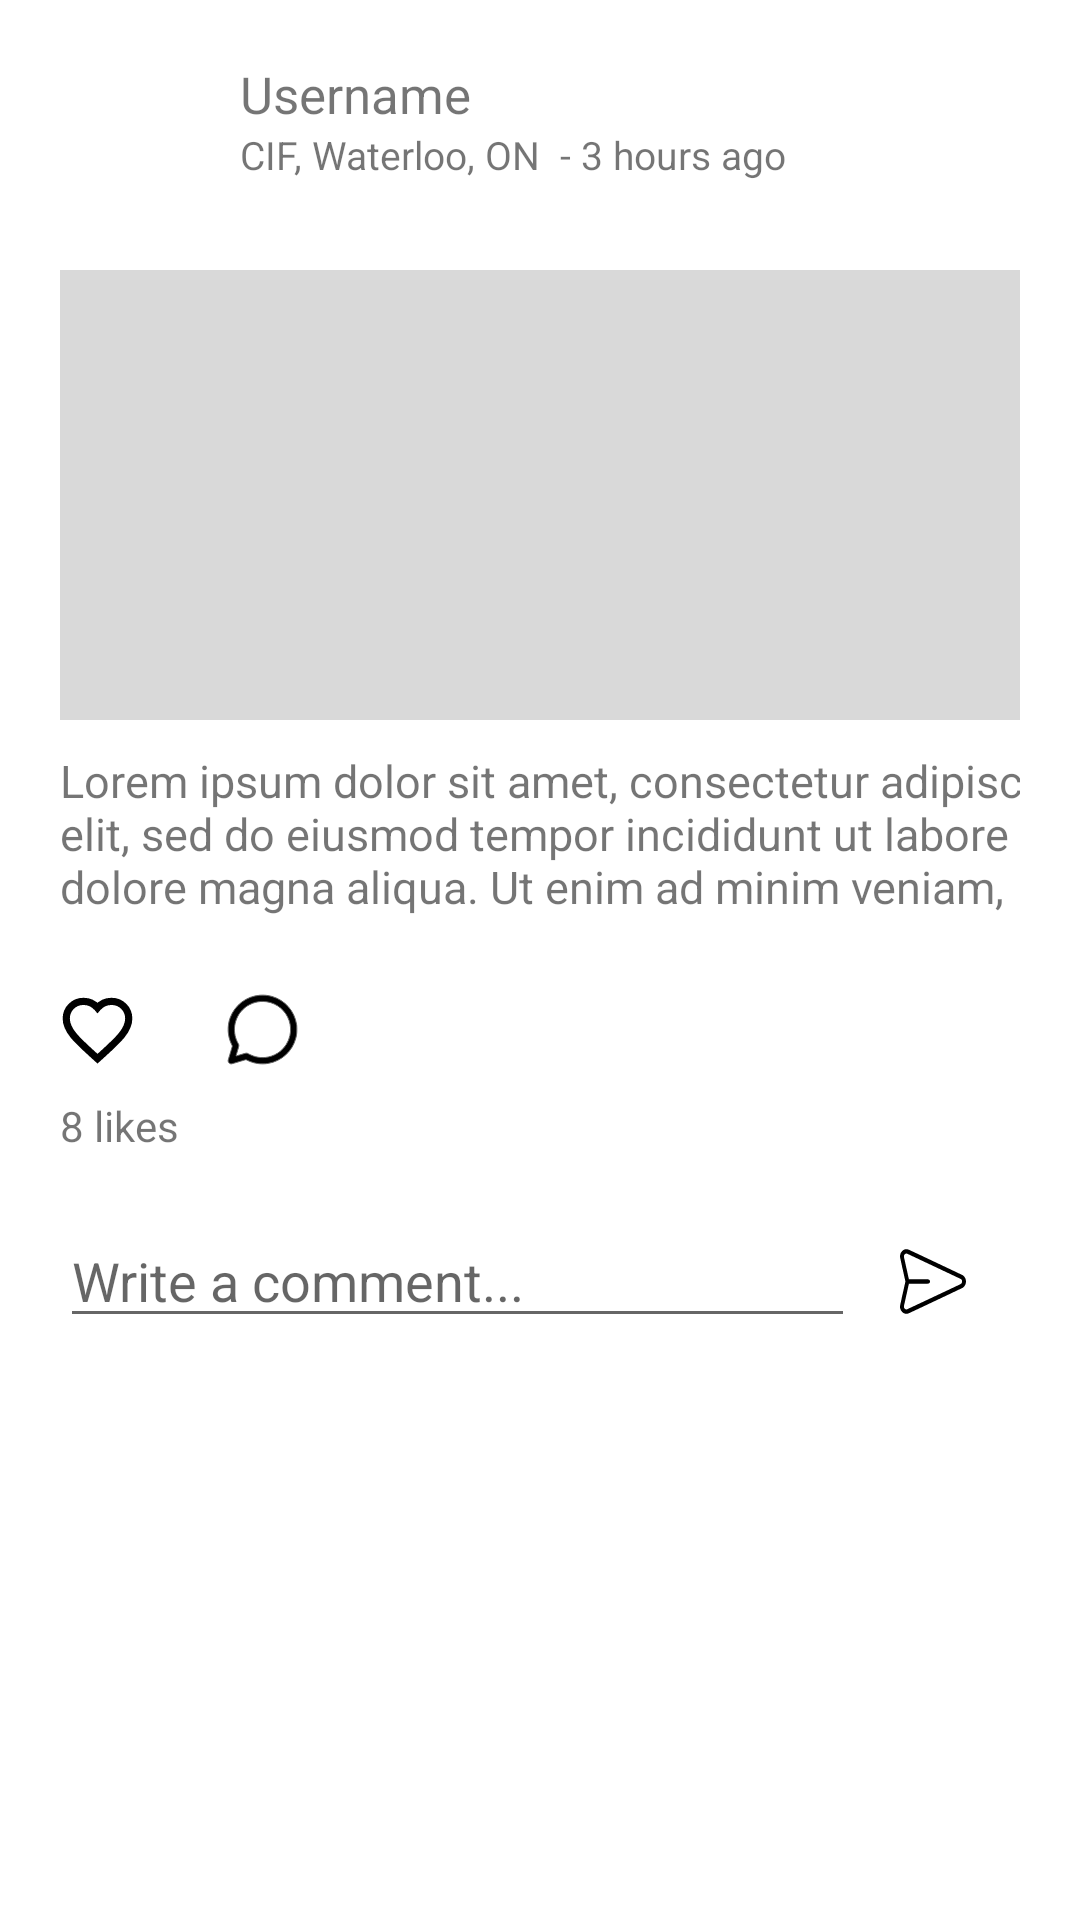

Icons on this 1080px x 1920px Android screen, each with the point to tap as (x,y):
chat bubble: (262,1029)
heart empty: (97,1030)
send: (933,1281)
